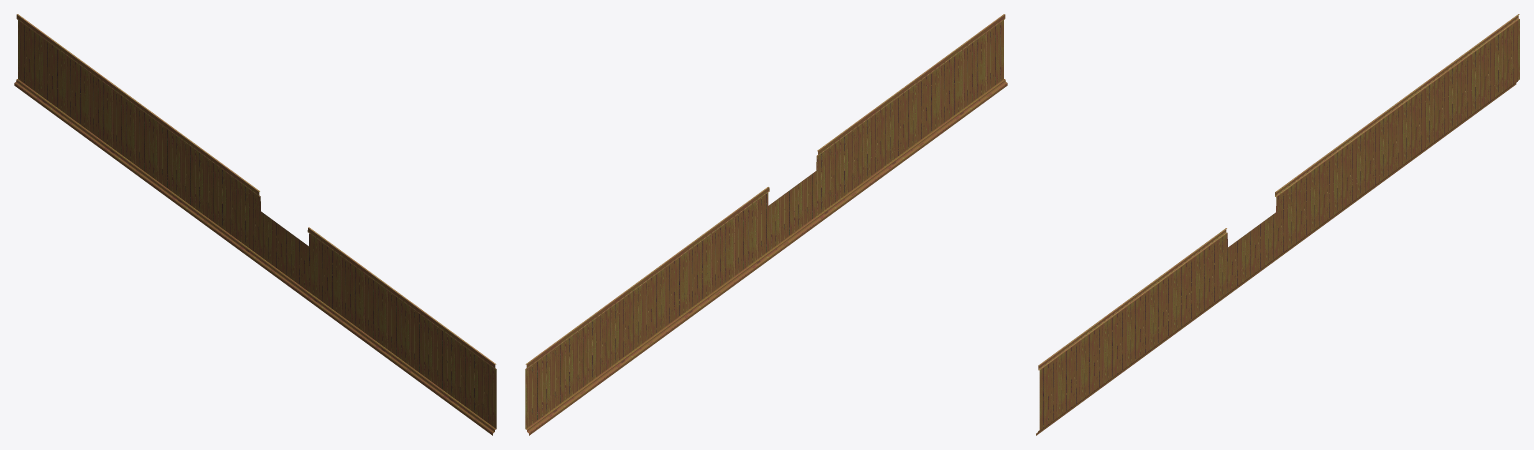
File: Pared_Larga_01.fbx
3 views of the same model, side by side, from view 1: azimuth 30°, elevation 25°; view 2: azimuth 150°, elevation 25°; view 3: azimuth 330°, elevation 25° (orthographic).
Parts seen in each view (by area): view 1: Pared_01.043; view 2: Pared_01.043; view 3: Pared_01.043.
Part boxes in pixels (x1,y1,x2,y2): Pared_01.043: (14, 14, 496, 435); Pared_01.043: (525, 14, 1007, 435); Pared_01.043: (1036, 14, 1519, 435).
Bounding box in the file's own units: 7.03 × 133 × 1627.
